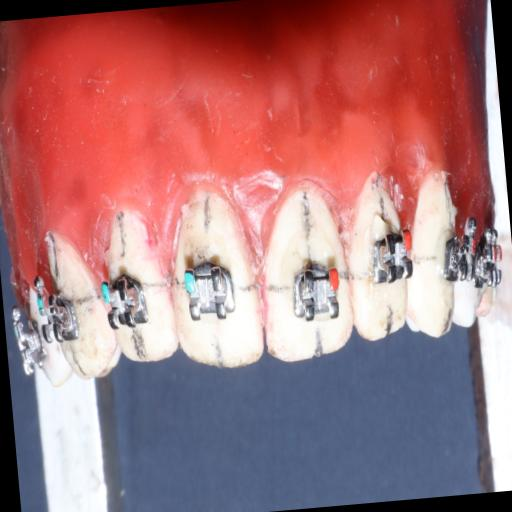incorrect_brace: (178, 253, 240, 332), (286, 248, 346, 329)
